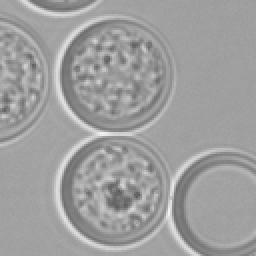picoshell: (56, 16, 174, 132), (56, 136, 170, 248), (168, 152, 254, 254), (0, 14, 50, 146), (18, 0, 102, 16)
